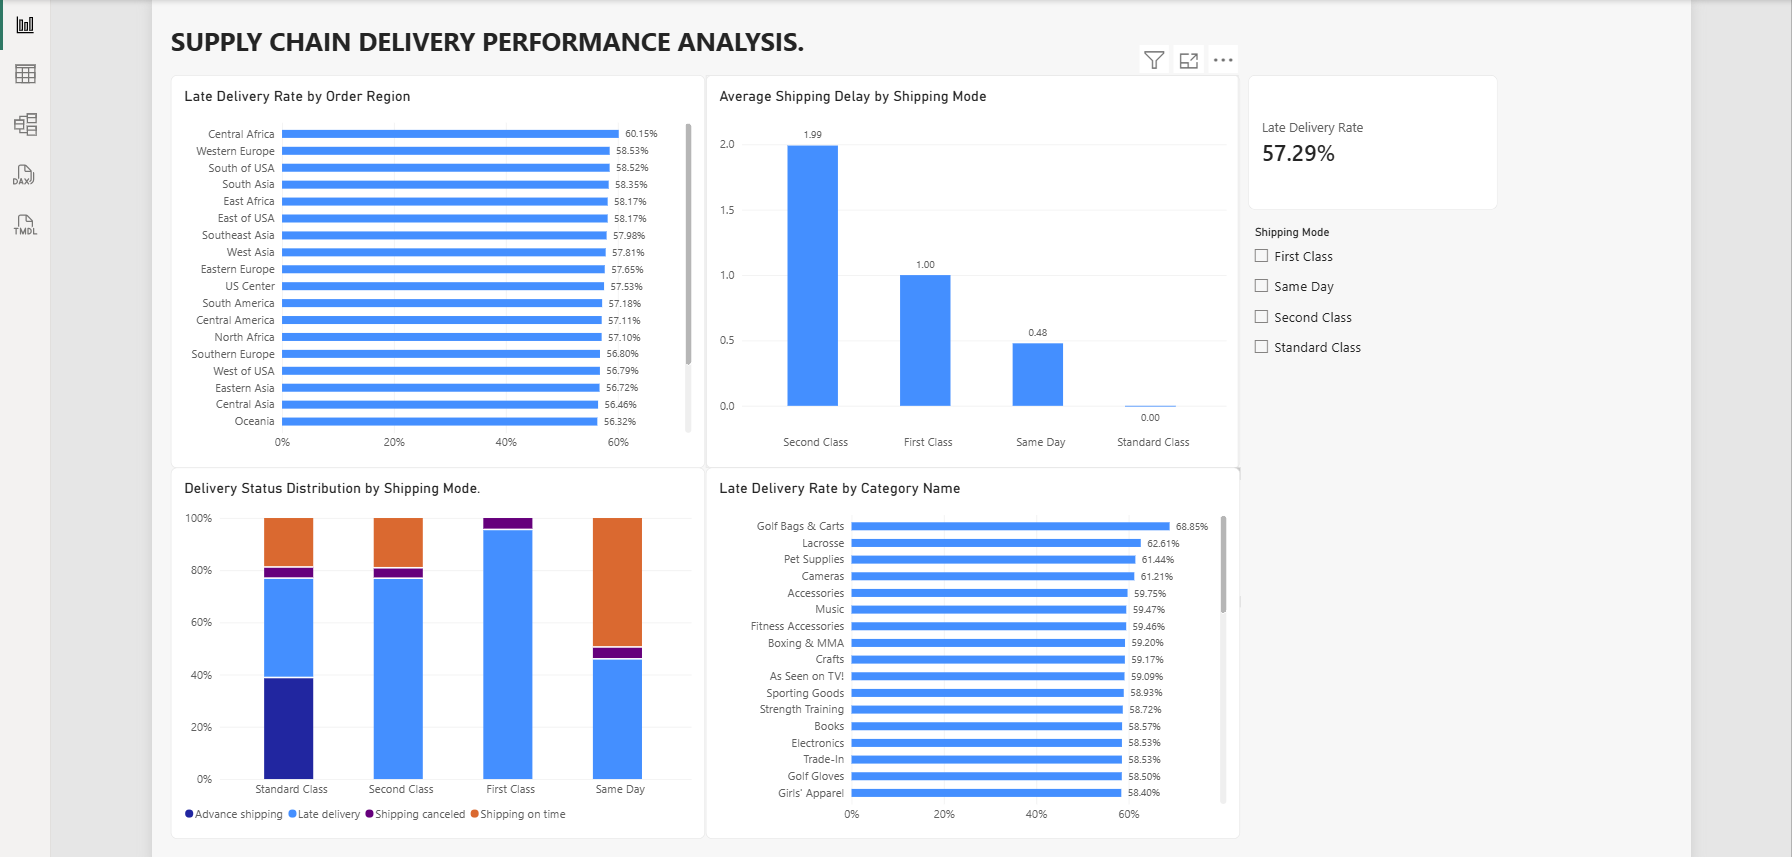

The page's visual inventory and layout, read from the dashboard file:
{"tool":"powerbi","page":{"name":"Page 2","canvas":[1920,1080],"ordinal":1},"visuals":[{"type":"clusteredBarChart","fields":{"Category":["supply_chain_cleaned (1).Order Region"],"Y":["supply_chain_cleaned (1).Late Delivery Rate"]},"box":[23.3,93.3,666.7,490],"z":0},{"type":"clusteredColumnChart","fields":{"Category":["supply_chain_cleaned (1).Shipping Mode"],"Y":["supply_chain_cleaned (1).Average Shipping Delay"]},"box":[690,93.3,666.7,490],"z":1000},{"type":"hundredPercentStackedColumnChart","title":"Delivery Status Distribution by Shipping Mode.","fields":{"Category":["supply_chain_cleaned (1).Shipping Mode"],"Series":["supply_chain_cleaned (1).Delivery Status"],"Y":["CountNonNull(supply_chain_cleaned (1).Order Item Id)"]},"box":[23.3,583.3,666.7,463.3],"z":2000},{"type":"cardVisual","fields":{"Data":["supply_chain_cleaned (1).Late Delivery Rate"]},"box":[1366.7,93.3,311.7,168.3],"z":3000},{"type":"textbox","box":[690,743,283,303],"z":4000},{"type":"textbox","box":[1343.3,583.3,13.3,15],"z":5000},{"type":"textbox","box":[1343.3,743.3,13.3,13.3],"z":6000},{"type":"textbox","box":[1611.7,483.3,308.3,100],"z":7000},{"type":"textbox","box":[1367,583,553,160],"z":8000},{"type":"textbox","box":[23.3,30,1896.7,63.3],"z":9000},{"type":"clusteredBarChart","fields":{"Category":["supply_chain_cleaned (1).Category Name"],"Y":["supply_chain_cleaned (1).Late Delivery Rate"]},"box":[690,583.3,666.7,463.3],"z":10000},{"type":"slicer","fields":{"Values":["supply_chain_cleaned (1).Shipping Mode"]},"box":[1366.7,280,330,303.3],"z":11000}]}

Visuals, with their boxes on the page's 1920x1080 design canvas (x1, y1, x2, y2). These are canvas units, not pixel positions in the 1792x857 screenshot, which may show the page scaled, cropped or inside an application window:
clusteredBarChart - supply_chain_cleaned (1).Order Region x supply_chain_cleaned (1).Late Delivery Rate: {"x1": 23, "y1": 93, "x2": 690, "y2": 583}
clusteredColumnChart - supply_chain_cleaned (1).Shipping Mode x supply_chain_cleaned (1).Average Shipping Delay: {"x1": 690, "y1": 93, "x2": 1357, "y2": 583}
"Delivery Status Distribution by Shipping Mode." hundredPercentStackedColumnChart: {"x1": 23, "y1": 583, "x2": 690, "y2": 1047}
cardVisual - supply_chain_cleaned (1).Late Delivery Rate: {"x1": 1367, "y1": 93, "x2": 1678, "y2": 262}
textbox: {"x1": 690, "y1": 743, "x2": 973, "y2": 1046}
textbox: {"x1": 1343, "y1": 583, "x2": 1357, "y2": 598}
textbox: {"x1": 1343, "y1": 743, "x2": 1357, "y2": 757}
textbox: {"x1": 1612, "y1": 483, "x2": 1920, "y2": 583}
textbox: {"x1": 1367, "y1": 583, "x2": 1920, "y2": 743}
textbox: {"x1": 23, "y1": 30, "x2": 1920, "y2": 93}
clusteredBarChart - supply_chain_cleaned (1).Category Name x supply_chain_cleaned (1).Late Delivery Rate: {"x1": 690, "y1": 583, "x2": 1357, "y2": 1047}
slicer - supply_chain_cleaned (1).Shipping Mode: {"x1": 1367, "y1": 280, "x2": 1697, "y2": 583}
